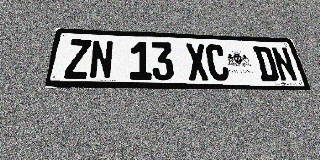1: (130, 41, 152, 80)
3: (151, 42, 174, 80)
C: (205, 44, 230, 81)
D: (252, 46, 280, 82)
N: (270, 47, 299, 82), (88, 40, 114, 79)
X: (185, 43, 210, 81)
Z: (64, 39, 91, 79)
